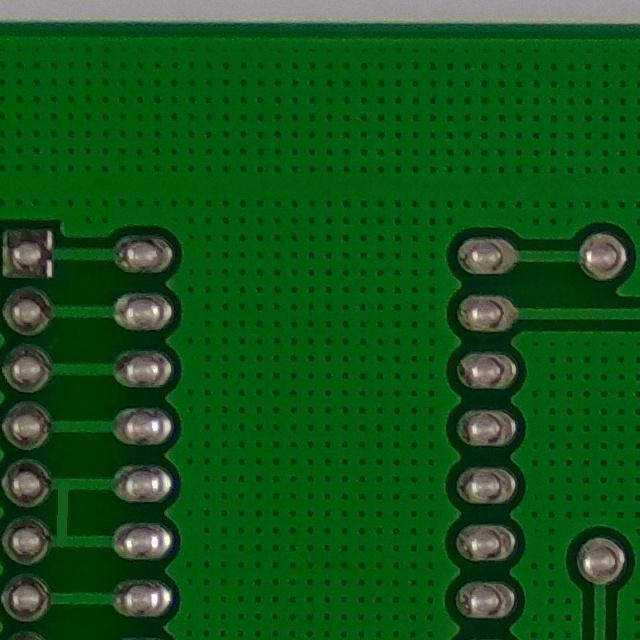short: (13, 463, 104, 564)
